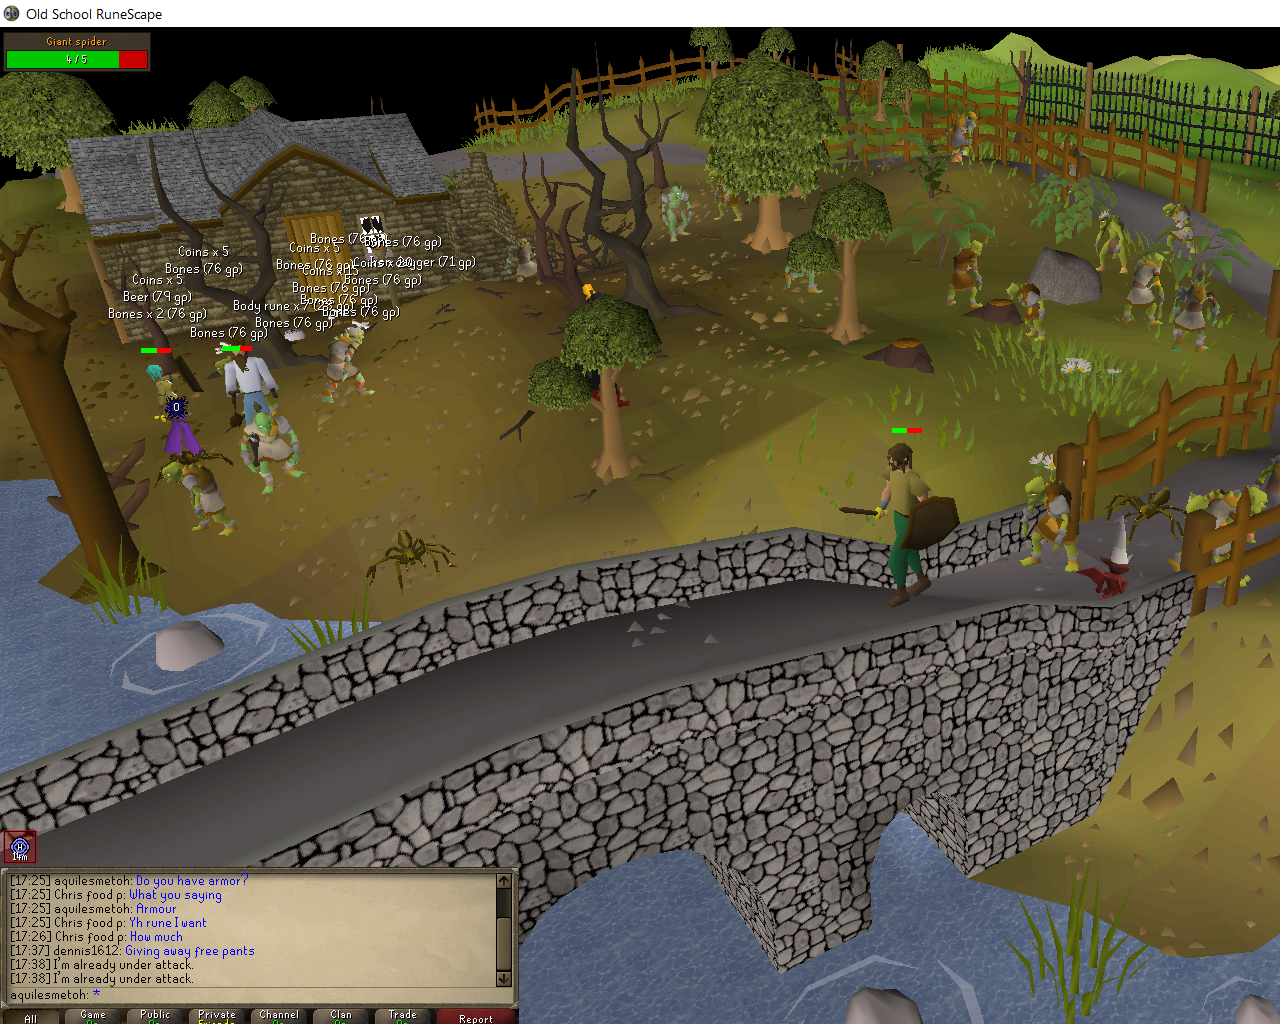Goblin: (1166, 489, 1242, 585), (1198, 480, 1267, 574), (1019, 475, 1083, 574), (241, 408, 309, 497), (162, 461, 239, 536), (323, 325, 377, 403), (1169, 277, 1223, 356), (1121, 254, 1166, 327), (945, 240, 991, 311), (1091, 212, 1133, 275), (1006, 283, 1047, 342), (1161, 203, 1198, 256), (504, 238, 546, 283), (657, 185, 691, 240)
